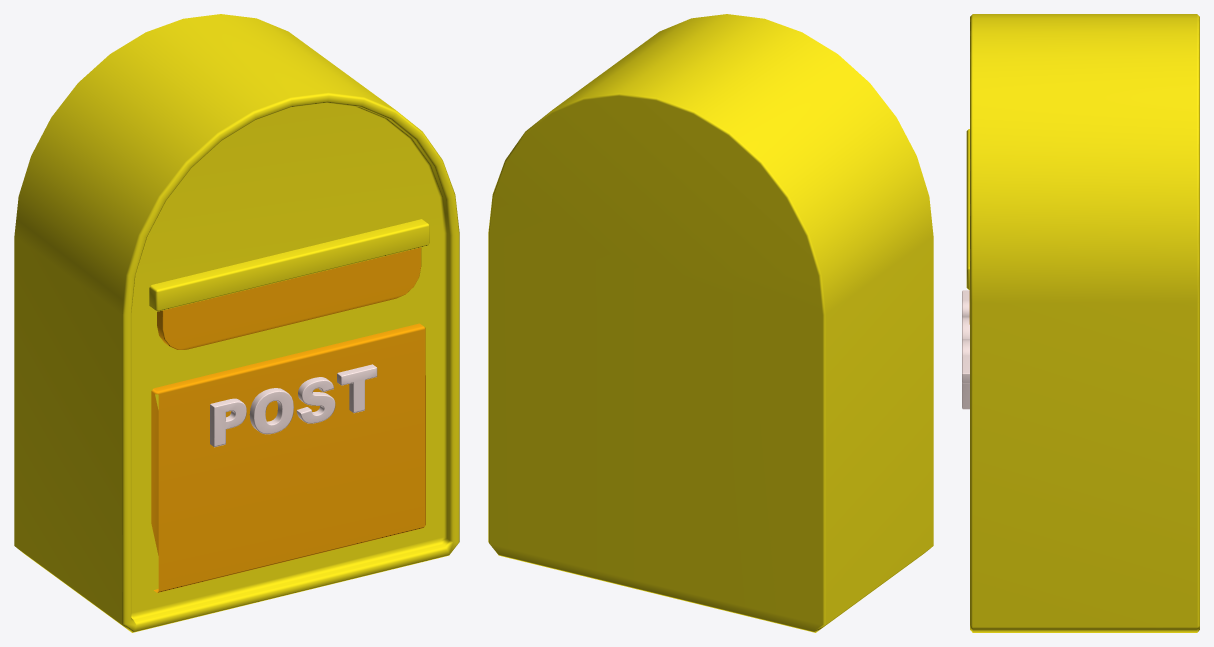
File: City_4_Mailbox_2.glb
The picture shows the model from 3 angles, left to right: view 1: azimuth 30°, elevation 25°; view 2: azimuth 150°, elevation 25°; view 3: azimuth 270°, elevation 25°; orthographic projection. The views are drawn at different scales.
Visible parts, largest first — view 1: City_4_Mailbox_2; view 2: City_4_Mailbox_2; view 3: City_4_Mailbox_2.
Boxes of the visible parts, bbox=[...] form: City_4_Mailbox_2: bbox=[14, 14, 459, 632]; City_4_Mailbox_2: bbox=[488, 14, 933, 632]; City_4_Mailbox_2: bbox=[962, 14, 1199, 632].
Bounding box in the file's own units: 0.5548 × 0.78 × 0.3239.
1 material, 1 textured.
